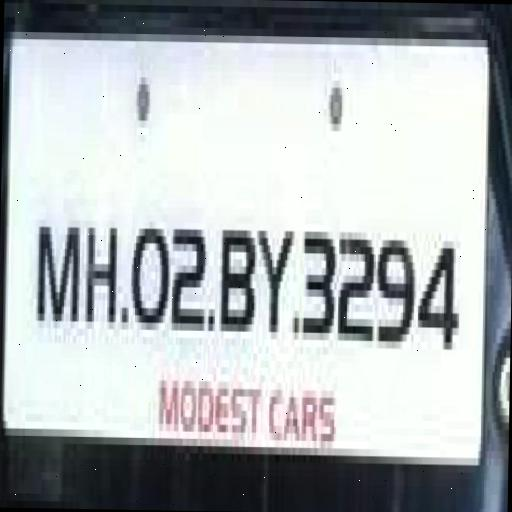number plate: (0, 10, 492, 473)
